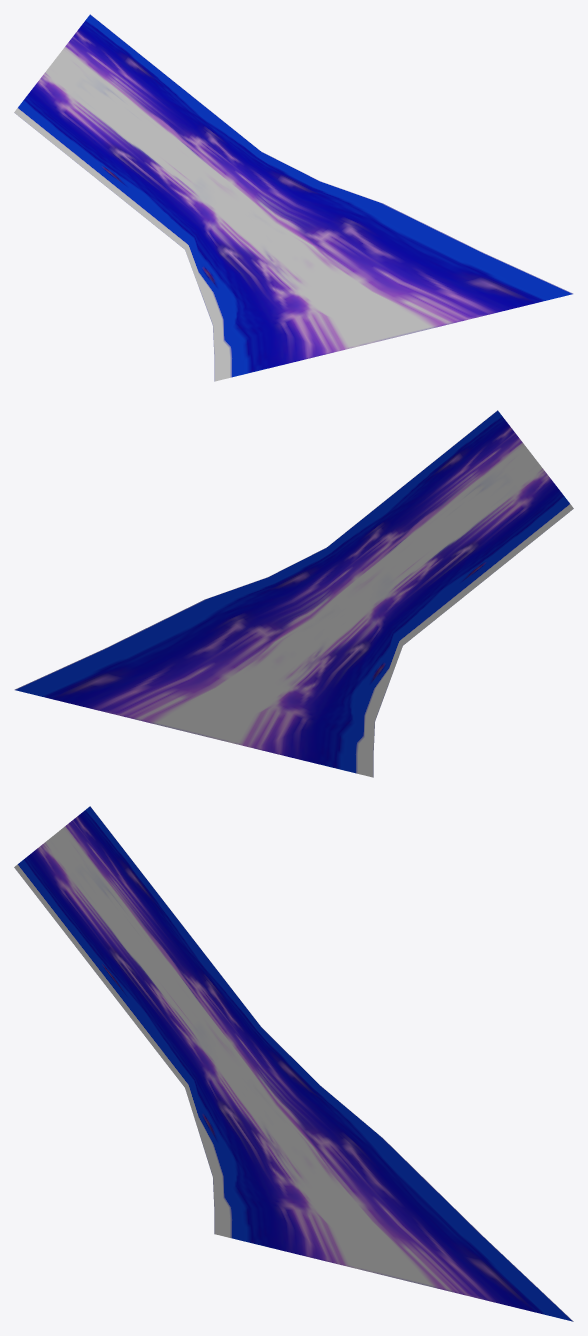
The model's file is FX_jinmo_skill1_mod.FBX.
The picture shows the model from 3 angles, top to bottom: view 1: azimuth 30°, elevation 25°; view 2: azimuth 150°, elevation 25°; view 3: azimuth 330°, elevation 25°; orthographic projection.
Visible parts, largest first — view 1: Plane02; view 2: Plane02; view 3: Plane02.
Part boxes in pixels (bbox=[...]): Plane02: bbox=[14, 14, 573, 381]; Plane02: bbox=[14, 410, 573, 777]; Plane02: bbox=[14, 806, 573, 1321].
Size of the model in its own units: 13.76 by 1.46e-07 by 9.34.
